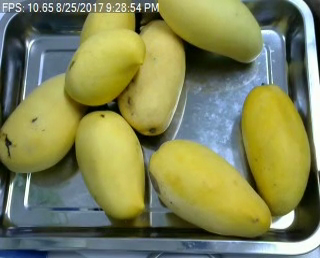Mango: (149, 139, 272, 238), (240, 87, 311, 215), (0, 71, 89, 172), (118, 20, 186, 134), (75, 111, 146, 219), (156, 0, 262, 63), (65, 28, 145, 106), (79, 0, 135, 47)
